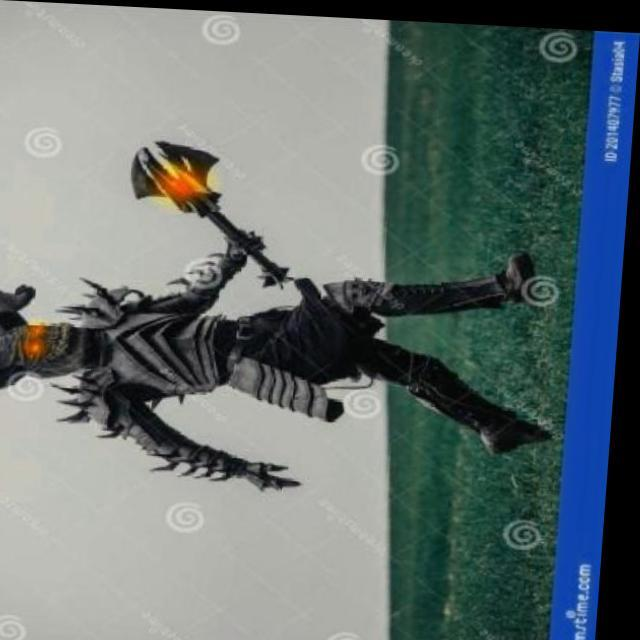weapon: (0, 218, 571, 504), (120, 134, 306, 292)
